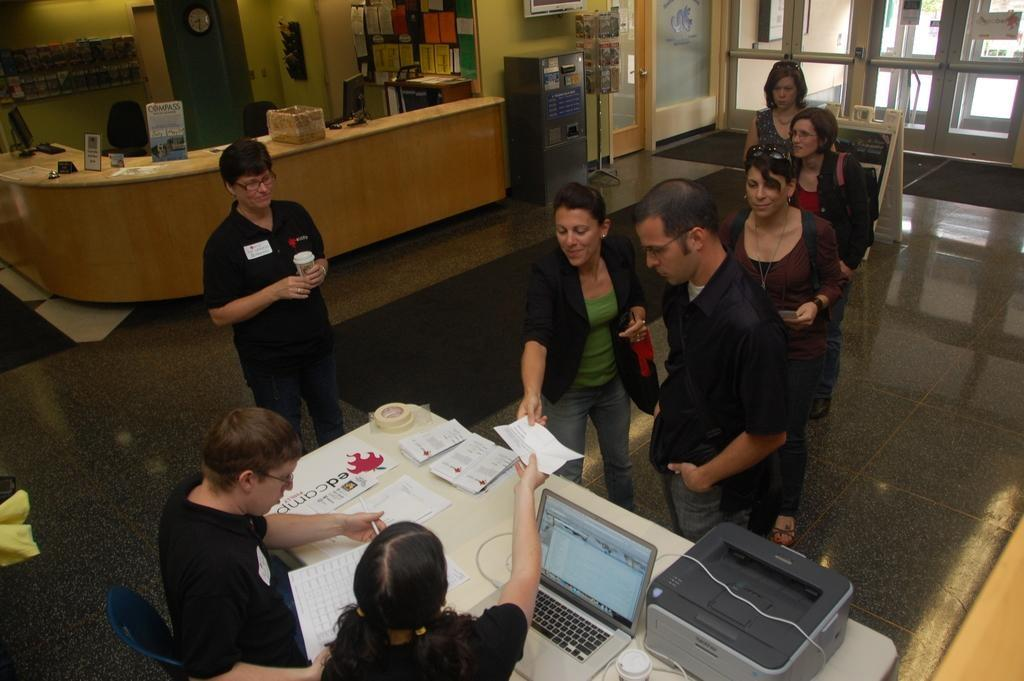Printer: (643, 521, 852, 680)
